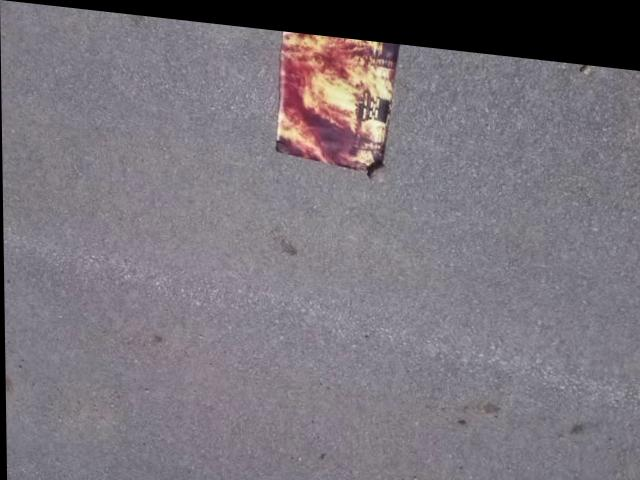fire-poster: (271, 25, 405, 173)
